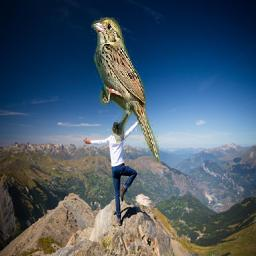Sparrow: (91, 18, 159, 163)
